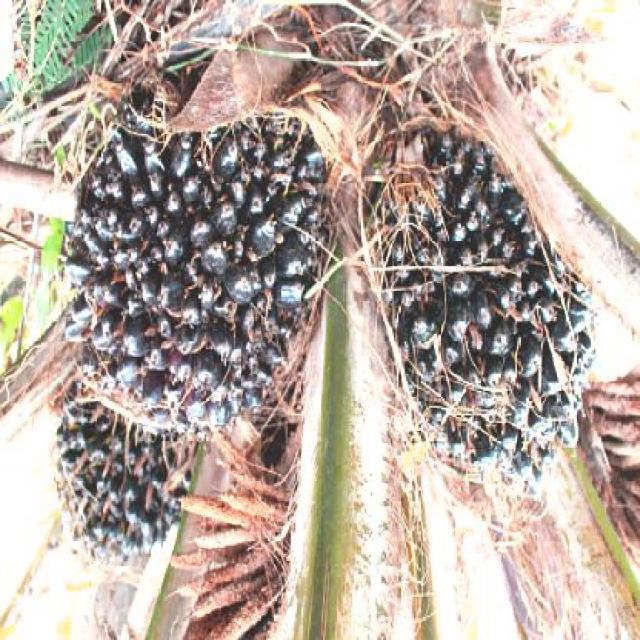palm-oil: (350, 102, 606, 494), (57, 86, 334, 428), (38, 359, 226, 553)
